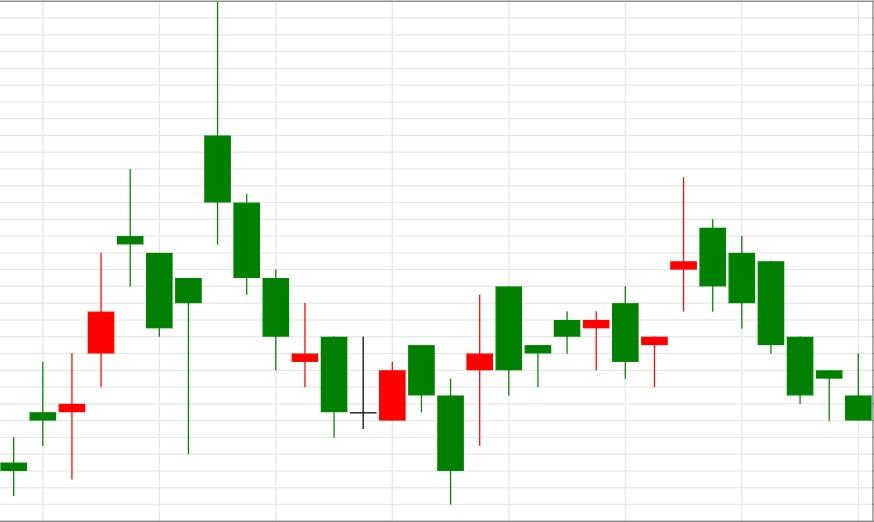morning_star_rise: (203, 0, 407, 438)
three_black_crows_fall: (145, 0, 290, 456)
